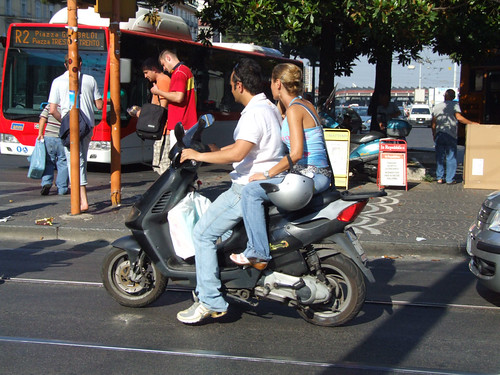helmet: (261, 172, 315, 213)
